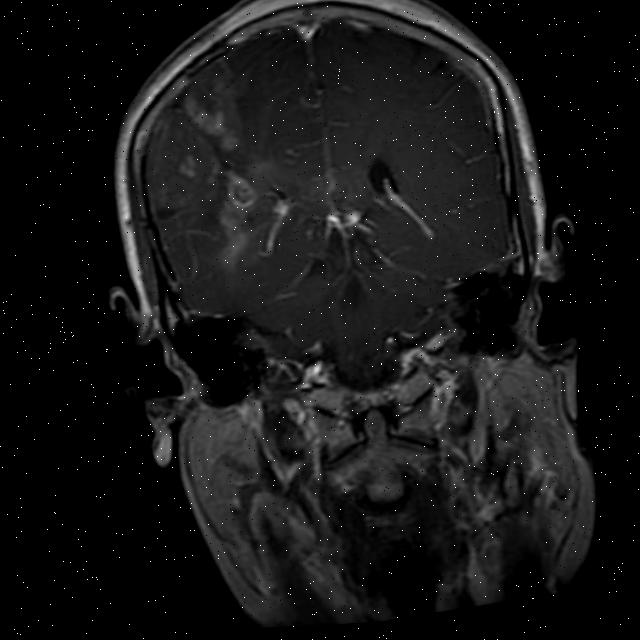Glioma: (136, 102, 225, 212), (179, 57, 245, 153), (222, 165, 260, 210)
